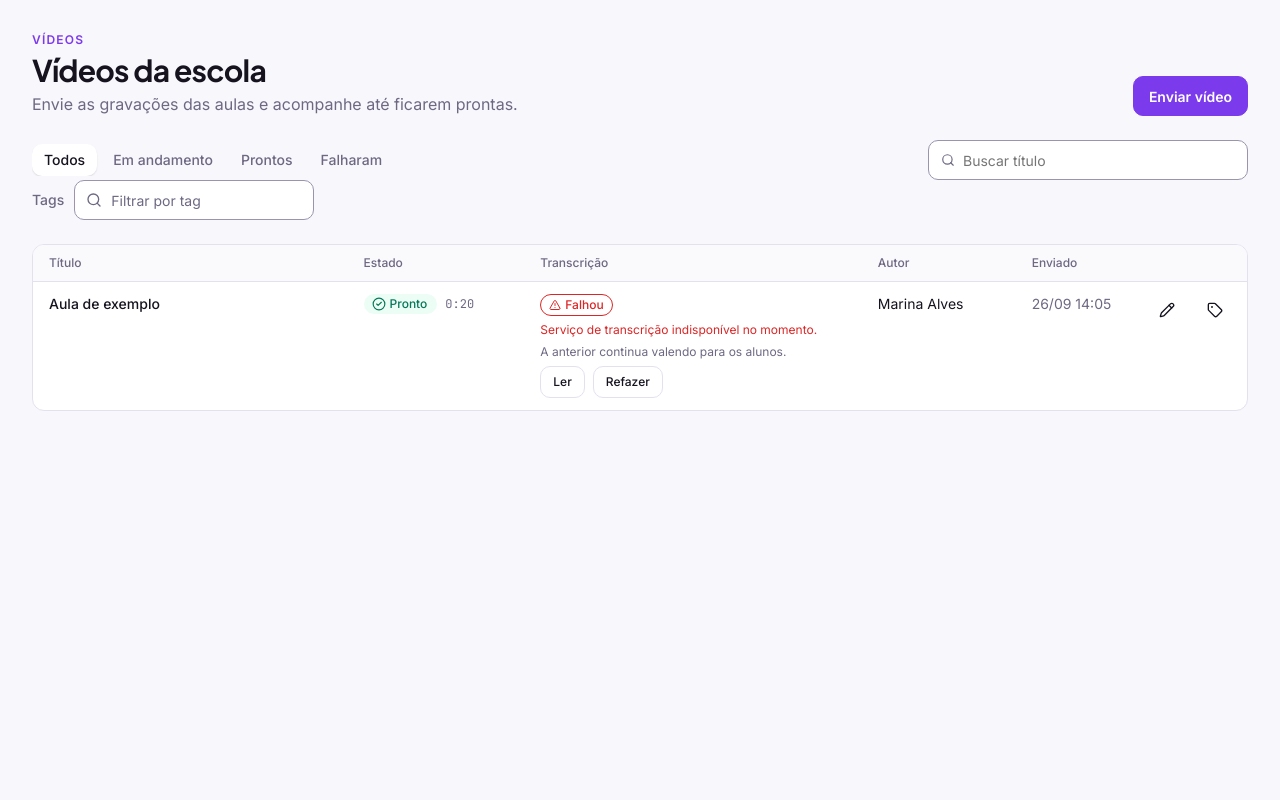
Test: video-transcription-reader › allows reading a current transcription after a failed restart
The width and height of the screenshot is (1280, 800).
Click the button with aria-label "Ler transcrição de Aula de exemplo" at {"x": 563, "y": 382}, box top-left (540, 366), bottom-right (585, 398)
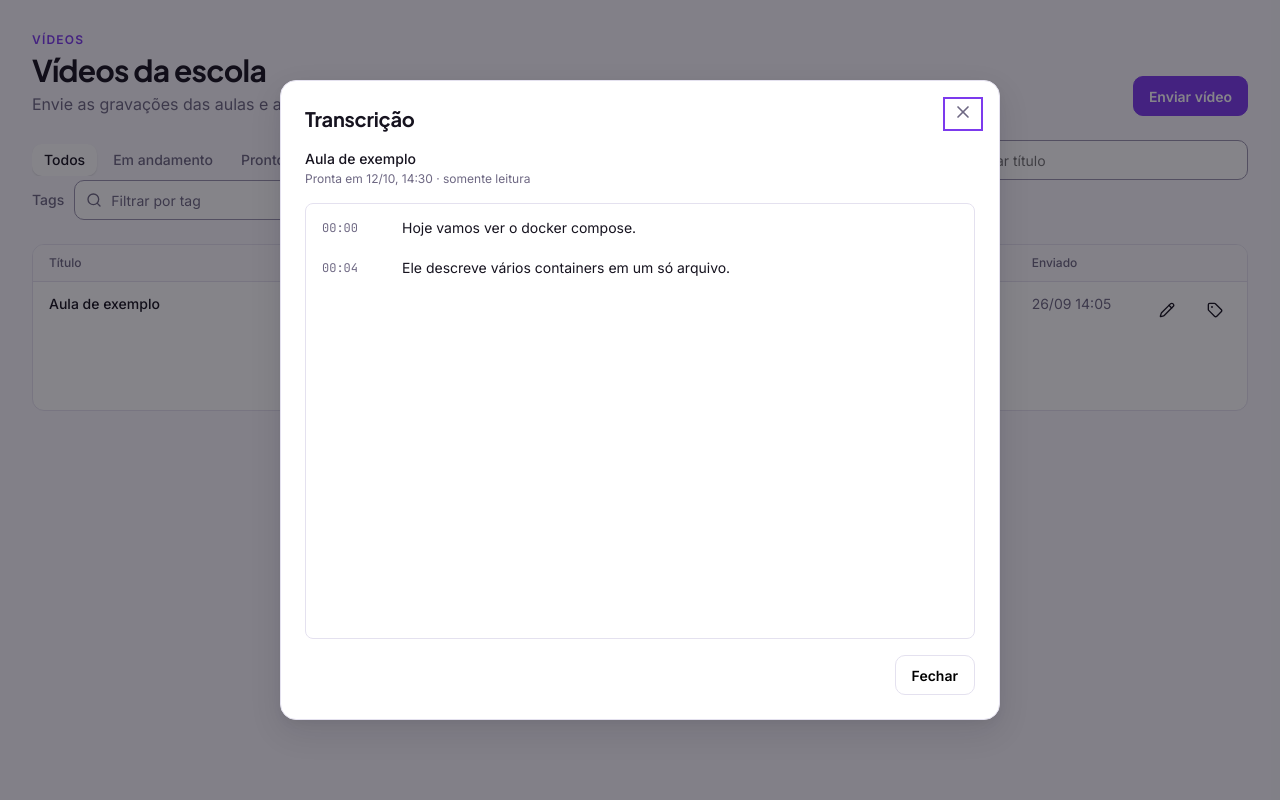
Check: the text "Hoje vamos ver o docker compose." is shown, box top-left (402, 219), bottom-right (636, 236)
